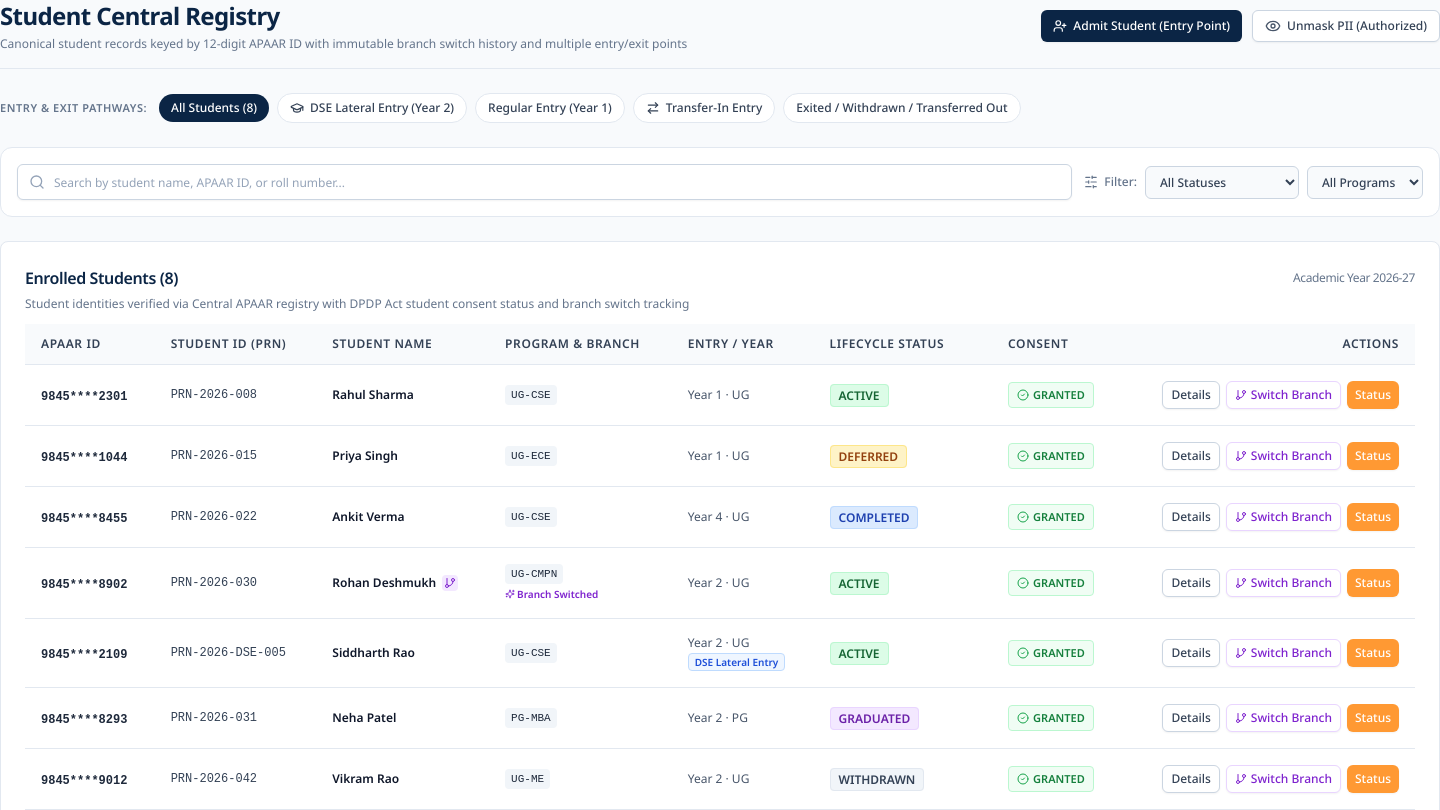
Test: Task A4: Institution Operations & Lifecycle Management › 1. Student Central Registry & Lifecycle Transitions (/institution/students) › transition dialog strictly enforces allowed transitions: ACTIVE allows only WITHDRAWN, DEFERRED, TRANSFERRED_OUT, COMPLETED and excludes GRADUATED
The width and height of the screenshot is (1440, 810).
Expected: the text "Rahul Sharma" is shown, top-left (332, 386), bottom-right (414, 402)
# Rahul Sharma is ACTIVE
Click the button with test id "change-status-btn-984572912301": (1373, 394) top-left (1347, 380), bottom-right (1399, 408)
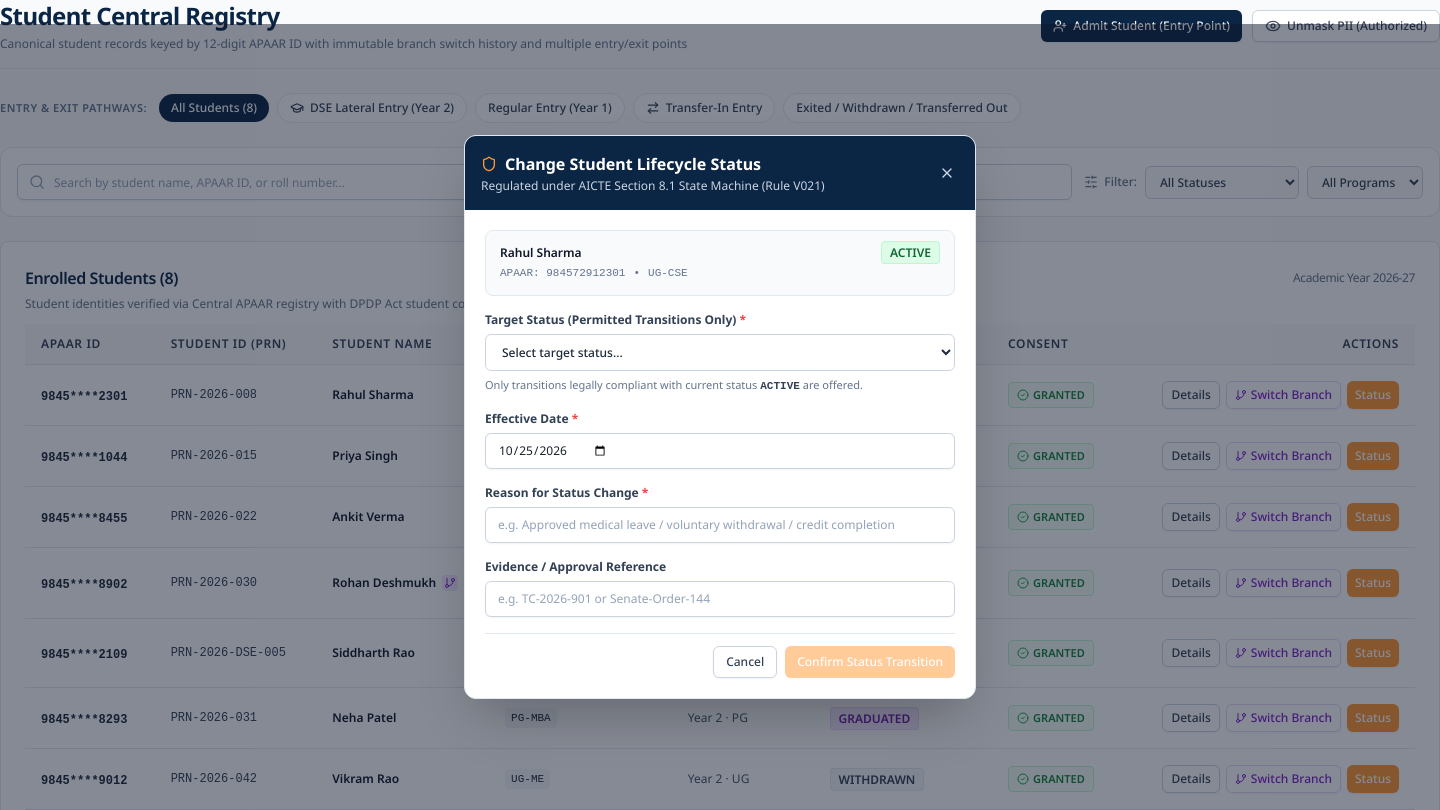
Expected: the dialog is shown
Expected: the text "Change Student Lifecycle Status" is shown, top-left (505, 152), bottom-right (761, 176)
